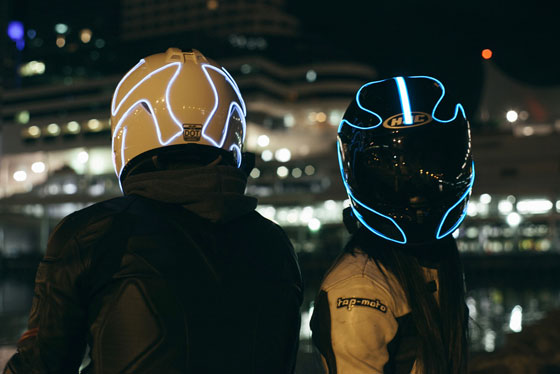helmet: (324, 66, 488, 254), (103, 42, 260, 205)
